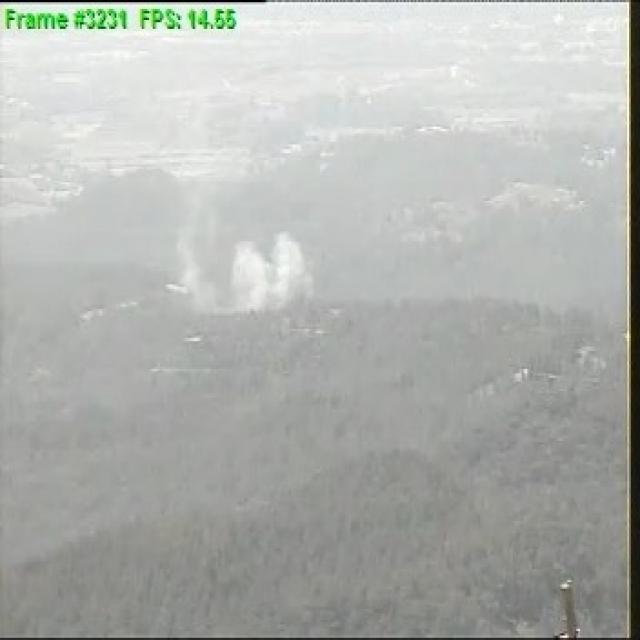smoke: (176, 234, 316, 311)
